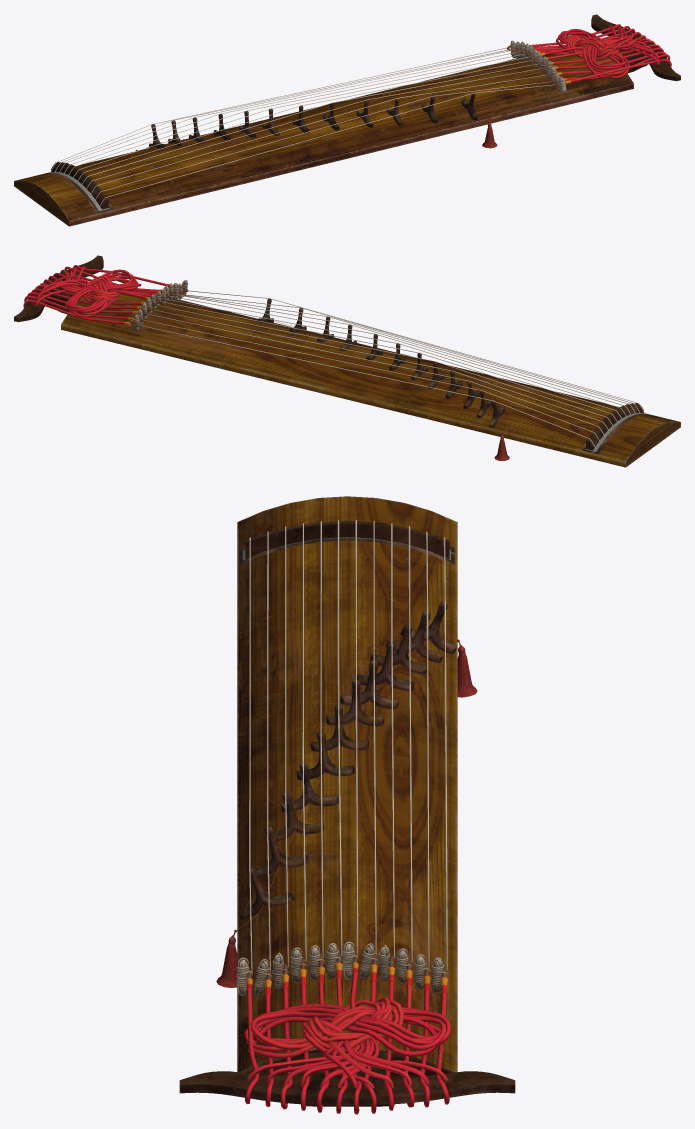
Rendered from gayageum.glb.
The picture shows the model from 3 angles, top to bottom: view 1: azimuth 30°, elevation 25°; view 2: azimuth 150°, elevation 25°; view 3: azimuth 270°, elevation 25°; orthographic projection. The views are drawn at different scales.
Parts seen in each view (by area): view 1: Gayageum_Gayageum_mat_0; view 2: Gayageum_Gayageum_mat_0; view 3: Gayageum_Gayageum_mat_0.
Part boxes in pixels (x1,y1,x2,y2): Gayageum_Gayageum_mat_0: (14, 14, 680, 226); Gayageum_Gayageum_mat_0: (14, 255, 680, 467); Gayageum_Gayageum_mat_0: (179, 496, 515, 1114).
Bounding box in the file's own units: 1.62 × 0.151 × 0.385.
1 material, 1 textured.
